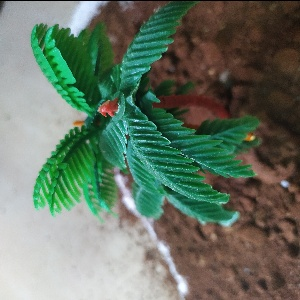plant: (23, 3, 274, 228)
